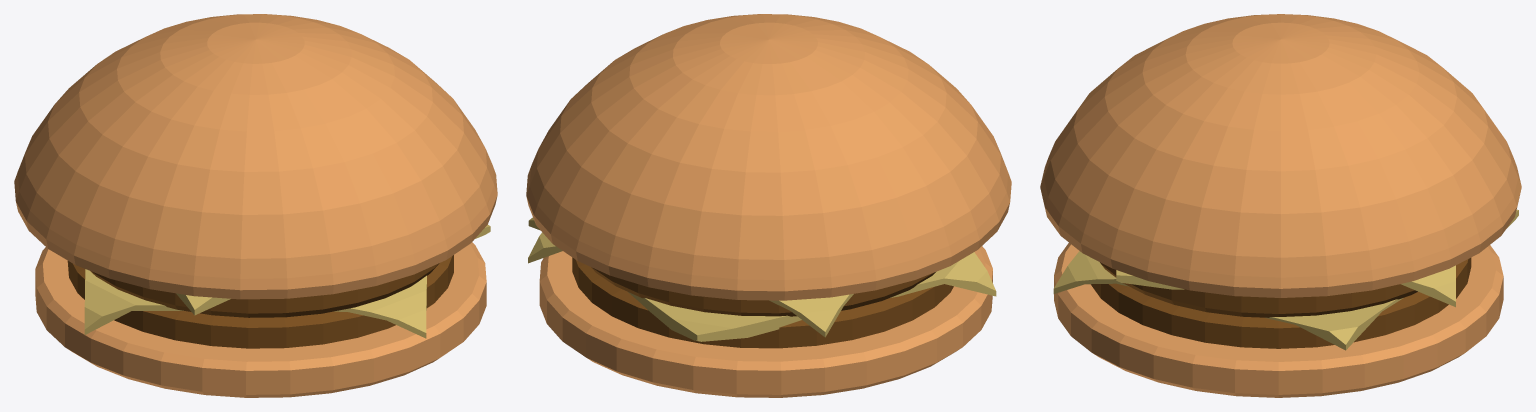
The model's file is Burger.fbx.
The picture shows the model from 3 angles, left to right: view 1: azimuth 30°, elevation 25°; view 2: azimuth 150°, elevation 25°; view 3: azimuth 270°, elevation 25°; orthographic projection.
Parts seen in each view (by area): view 1: Cube.000; view 2: Cube.000; view 3: Cube.000.
Boxes of the visible parts, box(x1,y1,x2,y2) form: Cube.000: box(14, 14, 497, 397); Cube.000: box(526, 14, 1011, 397); Cube.000: box(1040, 14, 1521, 397).
Size of the model in its own units: 250 by 152 by 250.
